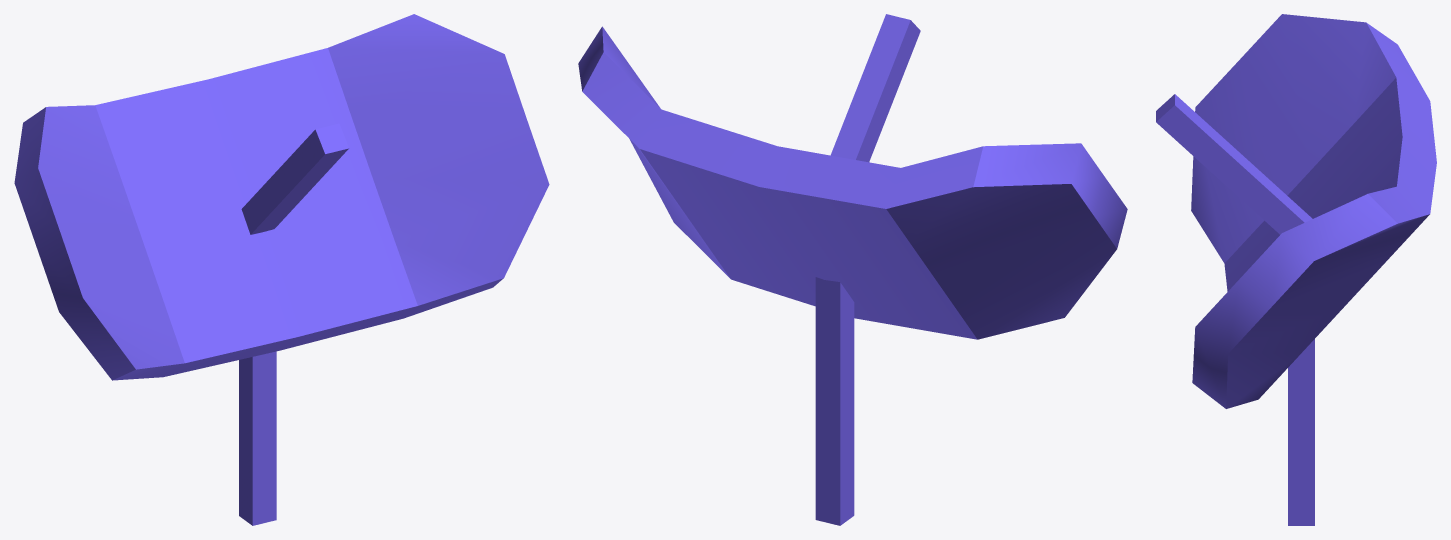
The model's file is radar.FBX.
3 views of the same model, side by side, from view 1: azimuth 30°, elevation 25°; view 2: azimuth 150°, elevation 25°; view 3: azimuth 270°, elevation 25° (orthographic). The views are drawn at different scales.
Parts seen in each view (by area): view 1: radar; view 2: radar; view 3: radar.
Boxes of the visible parts, x1,y1,x2,y2 form: radar: [14, 14, 549, 525]; radar: [578, 14, 1127, 525]; radar: [1156, 14, 1436, 525].
Bounding box in the file's own units: 4 × 2.1 × 3.49.
